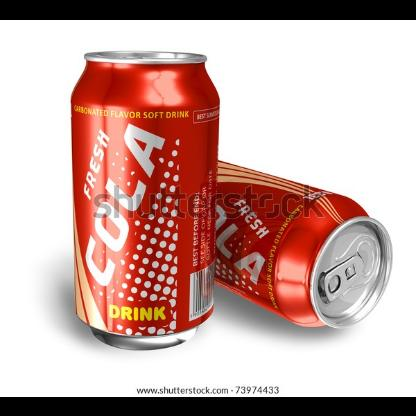Tin_Can: (65, 45, 219, 351), (218, 144, 394, 336)
